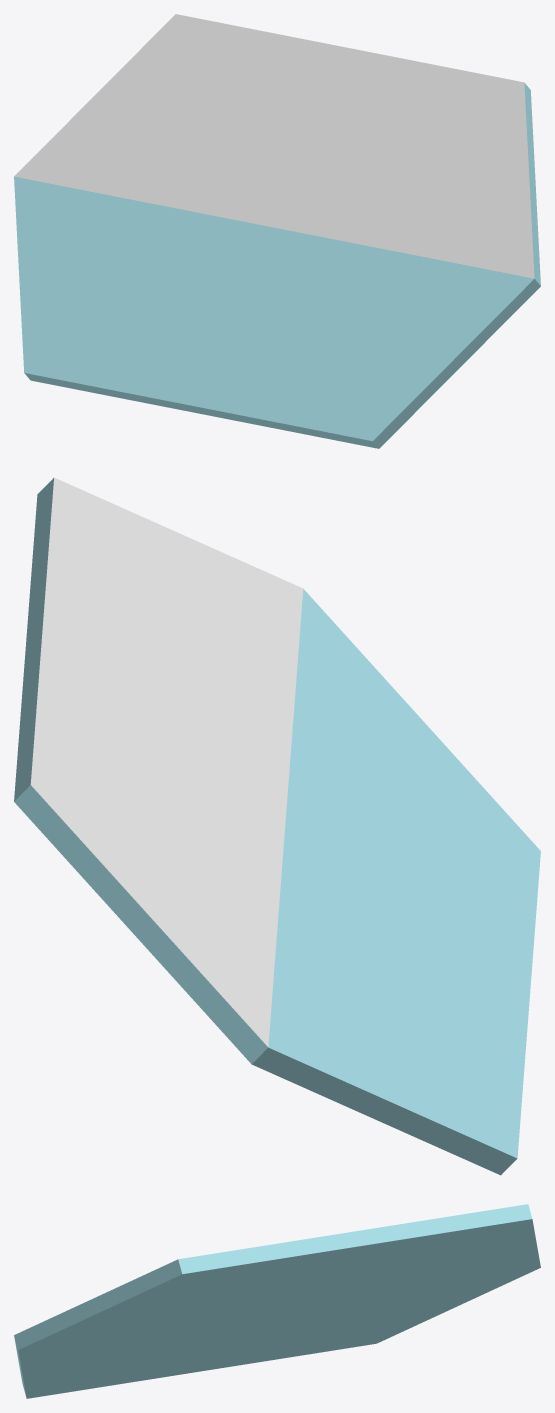
File: Wings_0.obj
The picture shows the model from 3 angles, top to bottom: view 1: azimuth 30°, elevation 25°; view 2: azimuth 150°, elevation 25°; view 3: azimuth 270°, elevation 25°; orthographic projection. The views are drawn at different scales.
Parts seen in each view (by area): view 1: Wings_0; view 2: Wings_0; view 3: Wings_0.
Boxes of the visible parts, x1,y1,x2,y2 form: Wings_0: [14, 14, 540, 448]; Wings_0: [14, 477, 540, 1175]; Wings_0: [14, 1204, 540, 1398].
Size of the model in its own units: 3.11 by 2.03 by 3.62.
